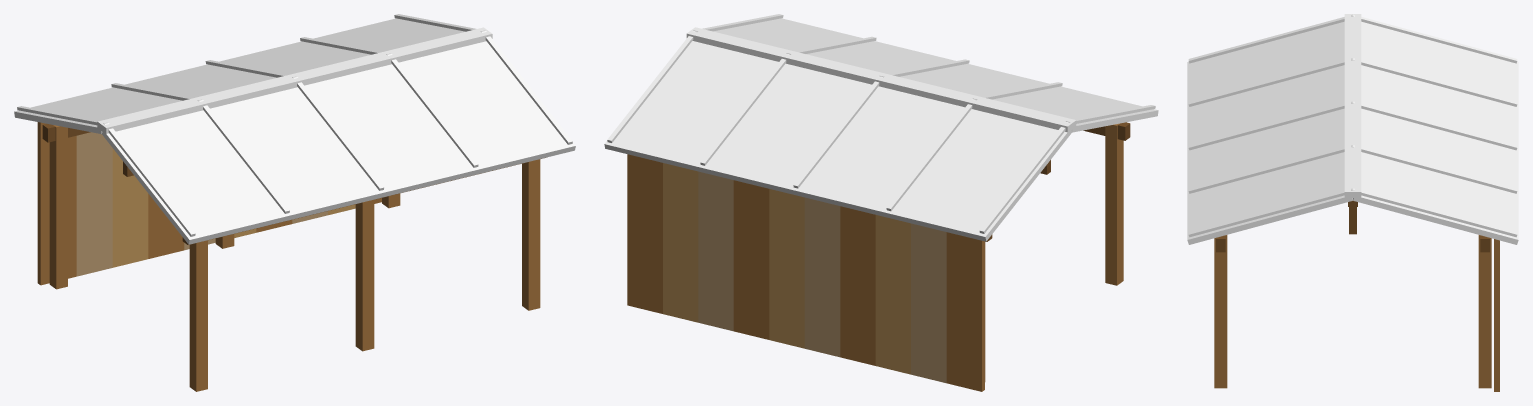
Rendered from hay_barn.glb.
3 renders of one model, left to right at view 1: azimuth 30°, elevation 25°; view 2: azimuth 150°, elevation 25°; view 3: azimuth 270°, elevation 25°, orthographic. The views are drawn at different scales.
Visible parts, largest first — view 1: HayBarn; view 2: HayBarn; view 3: HayBarn.
Part boxes in pixels (x1,y1,x2,y2): HayBarn: (14, 14, 575, 391); HayBarn: (604, 14, 1158, 391); HayBarn: (1187, 14, 1518, 391).
Bounding box in the file's own units: 8.6 × 4.66 × 6.77.
